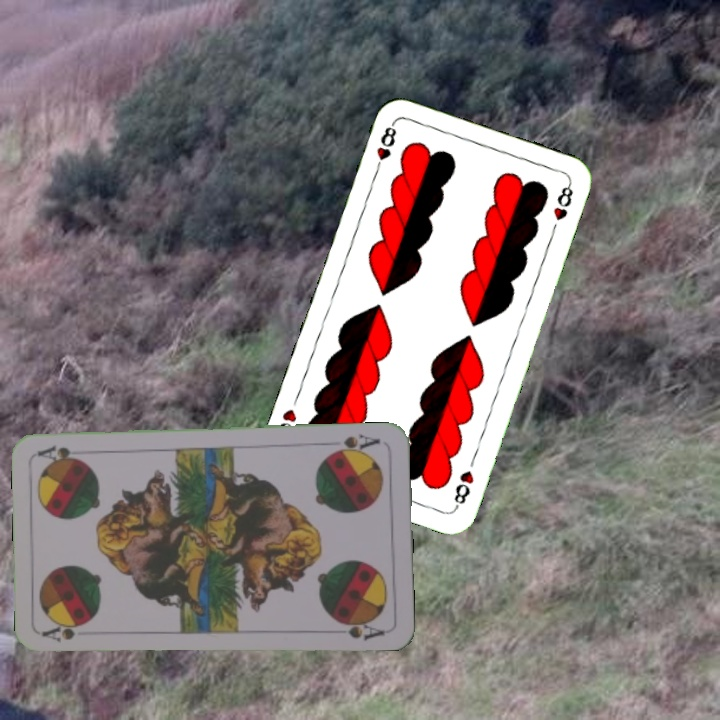H8: (371, 118, 399, 176), (450, 466, 477, 511)
SA: (326, 430, 383, 457), (39, 621, 86, 645)
